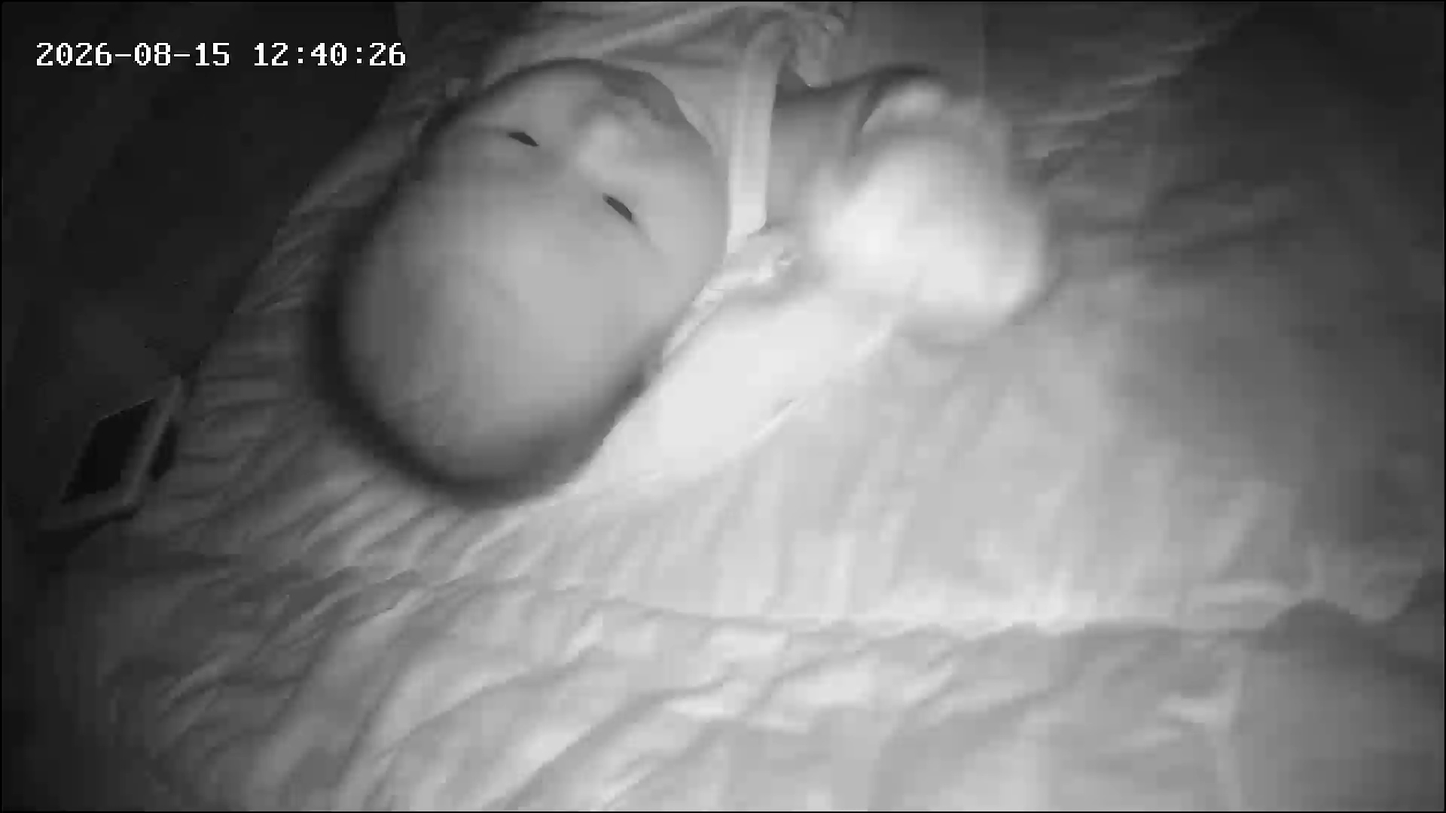baby: (291, 0, 1004, 515), (285, 0, 791, 514)
baby_face: (306, 23, 751, 497)
